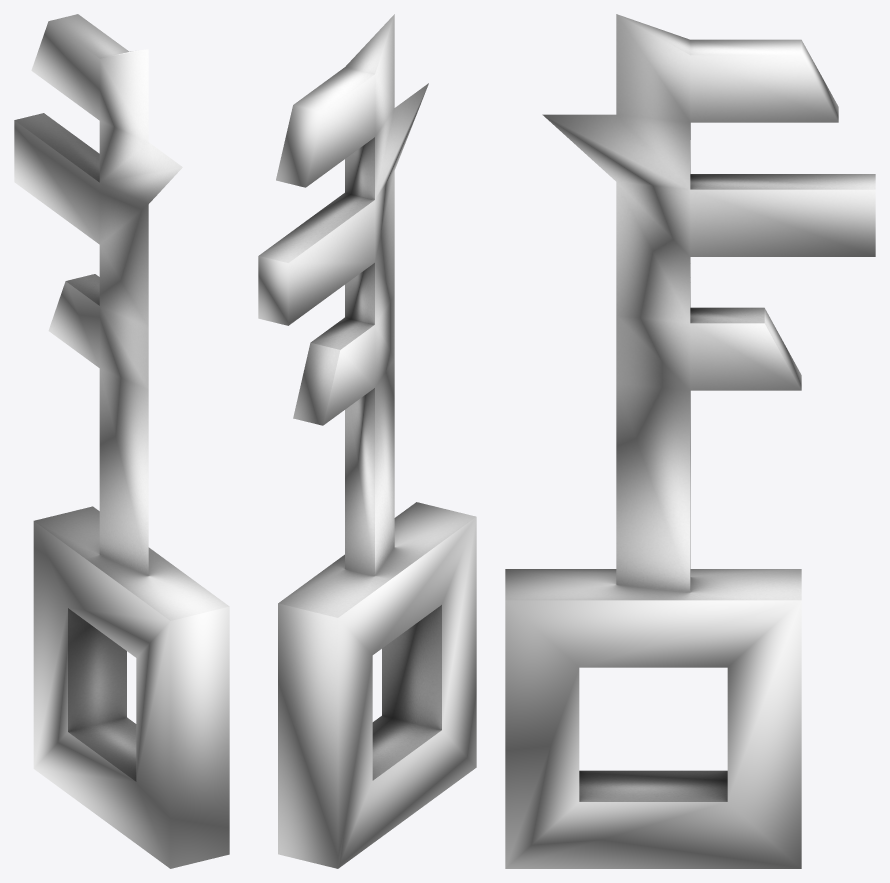
The model's file is Key_Boxy.dae.
3 views of the same model, side by side, from view 1: azimuth 30°, elevation 25°; view 2: azimuth 150°, elevation 25°; view 3: azimuth 270°, elevation 25° (orthographic). The views are drawn at different scales.
Parts seen in each view (by area): view 1: Cube; view 2: Cube; view 3: Cube.
Boxes of the visible parts, box(x1,y1,x2,y2) form: Cube: box(14, 14, 229, 868); Cube: box(258, 14, 476, 868); Cube: box(505, 14, 875, 868).
Bounding box in the file's own units: 0.2 × 1 × 2.5.
1 material, 1 textured.
